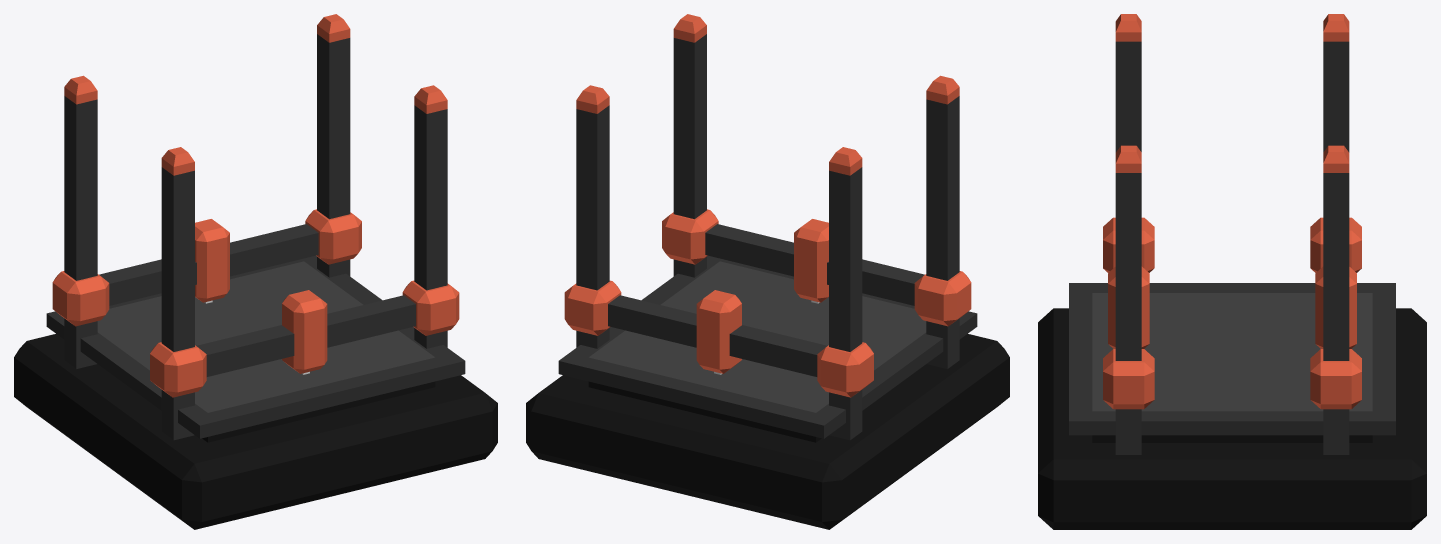
The model's file is 3D_Printer_TD_5.fbx.
The picture shows the model from 3 angles, left to right: view 1: azimuth 30°, elevation 25°; view 2: azimuth 150°, elevation 25°; view 3: azimuth 270°, elevation 25°; orthographic projection. The views are drawn at different scales.
Parts seen in each view (by area): view 1: Cube.026, Cube.036, Cube.029, Cube.037, Cube.030; view 2: Cube.026, Cube.029, Cube.036, Cube.030, Cube.037; view 3: Cube.026, Cube.029, Cube.036, Cube.030, Cube.037.
Part boxes in pixels (box(x1,y1,x2,y2)): Cube.026: box(14, 14, 497, 529); Cube.036: box(150, 280, 459, 397); Cube.029: box(52, 209, 361, 326); Cube.037: box(282, 290, 327, 374); Cube.030: box(195, 219, 229, 303); Cube.026: box(526, 14, 1009, 529); Cube.029: box(564, 280, 873, 397); Cube.036: box(662, 209, 971, 326); Cube.030: box(696, 290, 741, 374); Cube.037: box(794, 219, 828, 303); Cube.026: box(1038, 14, 1426, 529); Cube.029: box(1310, 217, 1361, 409); Cube.036: box(1103, 217, 1154, 409); Cube.030: box(1315, 266, 1356, 348); Cube.037: box(1108, 266, 1149, 348).
Bounding box in the file's own units: 750 × 790 × 750.
